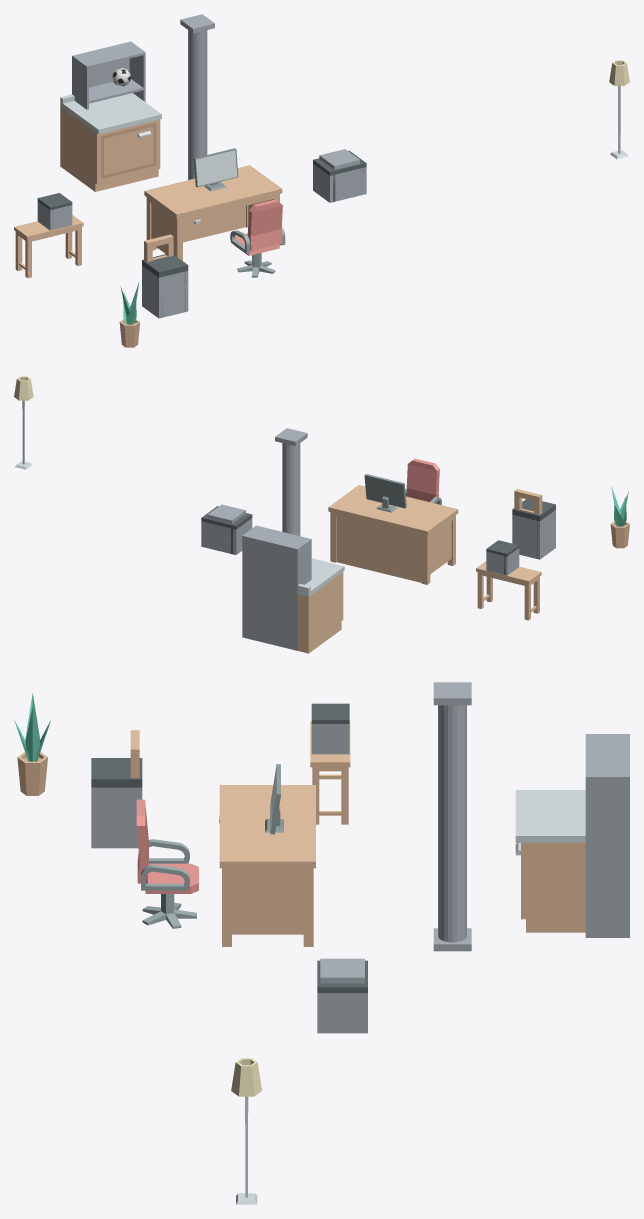
3 renders of one model, top to bottom at view 1: azimuth 30°, elevation 25°; view 2: azimuth 150°, elevation 25°; view 3: azimuth 270°, elevation 25°, orthographic. The views are drawn at different scales.
Parts seen in each view (by area): view 1: desk_blue__desk(Clone), cabinet_blue__kitchenCabinet(Clone), column_cyan__column_cyan shaft, cabinet_blue__door, deskchair_black__chair, bin_gray__bin_gray shell, sidetable_brown__sideTable(Clone), crate_red__crate_red shell, monitor_gray__computerScreen(Clone), shelf_orange__shelf_orange board3, shelf_orange__shelf_orange side_l, lamp_white__lampRoundFloor(Clone) (+8 smaller); view 2: desk_blue__desk(Clone), shelf_orange__shelf_orange back, cabinet_blue__kitchenCabinet(Clone), column_cyan__column_cyan shaft, bin_gray__bin_gray shell, sidetable_brown__sideTable(Clone), deskchair_black__chair, monitor_gray__computerScreen(Clone), crate_red__crate_red shell, shelf_orange__shelf_orange side_l, shelf_orange__shelf_orange board3, lamp_white__lampRoundFloor(Clone) (+6 smaller); view 3: desk_blue__desk(Clone), cabinet_blue__kitchenCabinet(Clone), shelf_orange__shelf_orange side_r, column_cyan__column_cyan shaft, deskchair_black__chair, bin_gray__bin_gray shell, crate_red__crate_red shell, sidetable_brown__sideTable(Clone), shelf_orange__shelf_orange board3, lamp_white__lampRoundFloor(Clone), bin_gray__bin_gray lid, box_yellow__box_yellow shell (+7 smaller).
Boxes of the visible parts, x1,y1,x2,y2 form: desk_blue__desk(Clone): (144, 165, 282, 260); cabinet_blue__kitchenCabinet(Clone): (60, 93, 161, 191); column_cyan__column_cyan shaft: (188, 30, 207, 179); cabinet_blue__door: (101, 123, 156, 178); deskchair_black__chair: (230, 199, 285, 255); bin_gray__bin_gray shell: (142, 266, 188, 318); sidetable_brown__sideTable(Clone): (14, 215, 83, 278); crate_red__crate_red shell: (313, 164, 366, 202); monitor_gray__computerScreen(Clone): (193, 148, 238, 191); shelf_orange__shelf_orange board3: (75, 42, 143, 68); shelf_orange__shelf_orange side_l: (72, 55, 88, 109); lamp_white__lampRoundFloor(Clone): (609, 60, 629, 159); desk_blue__desk(Clone): (328, 485, 458, 584); shelf_orange__shelf_orange back: (244, 535, 295, 650); cabinet_blue__kitchenCabinet(Clone): (297, 558, 344, 653); column_cyan__column_cyan shaft: (282, 443, 300, 535); bin_gray__bin_gray shell: (512, 510, 555, 559); sidetable_brown__sideTable(Clone): (476, 561, 541, 620); deskchair_black__chair: (405, 458, 441, 504); monitor_gray__computerScreen(Clone): (364, 474, 406, 512); crate_red__crate_red shell: (201, 518, 252, 554); shelf_orange__shelf_orange side_l: (295, 538, 311, 650); shelf_orange__shelf_orange board3: (245, 526, 309, 547); lamp_white__lampRoundFloor(Clone): (14, 376, 33, 469); desk_blue__desk(Clone): (219, 785, 315, 946); cabinet_blue__kitchenCabinet(Clone): (515, 790, 585, 932); shelf_orange__shelf_orange side_r: (585, 775, 629, 937); column_cyan__column_cyan shaft: (438, 705, 466, 942); deskchair_black__chair: (136, 799, 198, 893); bin_gray__bin_gray shell: (91, 787, 142, 848); crate_red__crate_red shell: (317, 993, 367, 1033); sidetable_brown__sideTable(Clone): (310, 721, 350, 824); shelf_orange__shelf_orange board3: (585, 735, 627, 775); lamp_white__lampRoundFloor(Clone): (231, 1058, 261, 1204); bin_gray__bin_gray lid: (91, 758, 142, 787); box_yellow__box_yellow shell: (311, 724, 349, 754).
Bounding box in the file's own units: 7.86 × 2.2 × 4.86.
